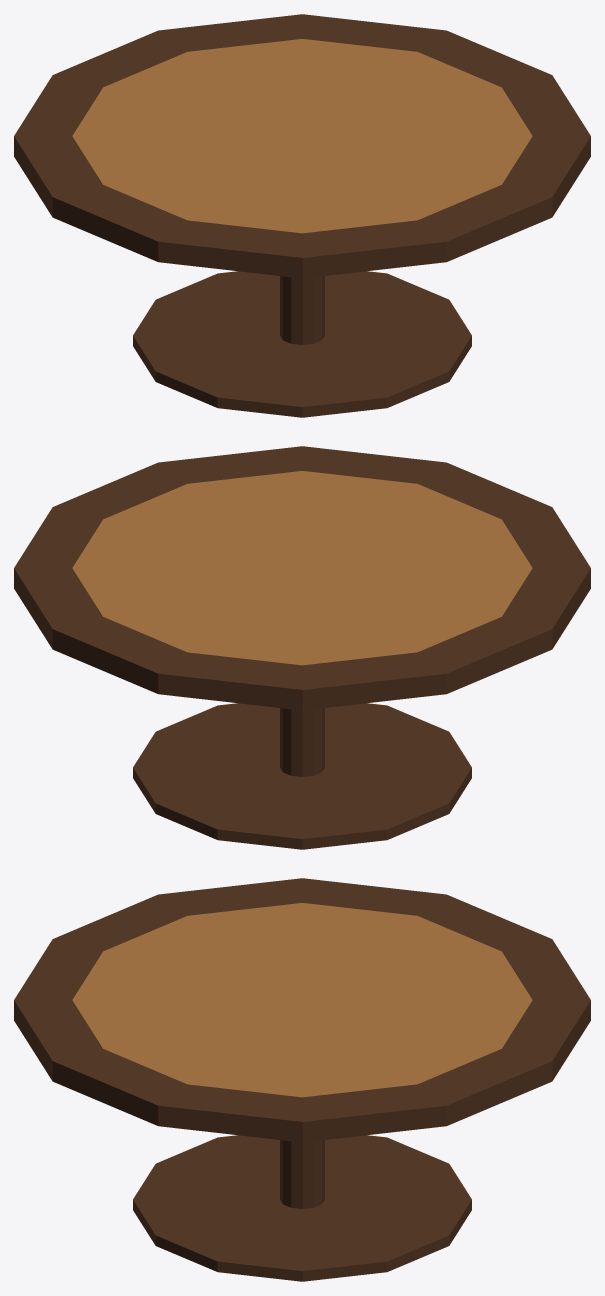
The model's file is round_table.glb.
3 renders of one model, top to bottom at view 1: azimuth 30°, elevation 25°; view 2: azimuth 150°, elevation 25°; view 3: azimuth 270°, elevation 25°, orthographic.
Visible parts, largest first — view 1: Round_Table; view 2: Round_Table; view 3: Round_Table.
Part boxes in pixels (x1,y1,x2,y2): Round_Table: [14, 14, 590, 417]; Round_Table: [14, 446, 590, 849]; Round_Table: [14, 878, 590, 1281].
Size of the model in its own units: 2.14 by 0.8599 by 2.14.
Materials: 1 (1 with a texture image).
